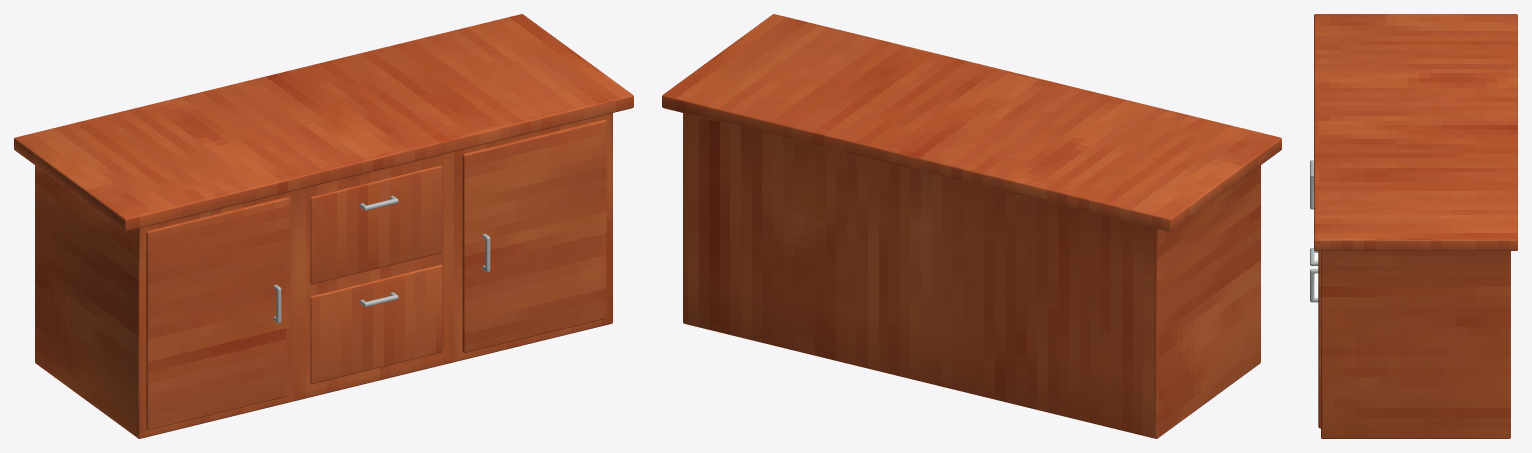
The model's file is Cabinet_1.glb.
The picture shows the model from 3 angles, left to right: view 1: azimuth 30°, elevation 25°; view 2: azimuth 150°, elevation 25°; view 3: azimuth 270°, elevation 25°; orthographic projection. The views are drawn at different scales.
Parts seen in each view (by area): view 1: Cabinet_1.001; view 2: Cabinet_1.001; view 3: Cabinet_1.001.
Part boxes in pixels (x1=…): Cabinet_1.001: x1=14, y1=14, x2=633, y2=438; Cabinet_1.001: x1=662, y1=14, x2=1281, y2=438; Cabinet_1.001: x1=1310, y1=14, x2=1517, y2=438.
Size of the model in its own units: 2.01 by 0.8573 by 0.7795.
1 material, 1 textured.
